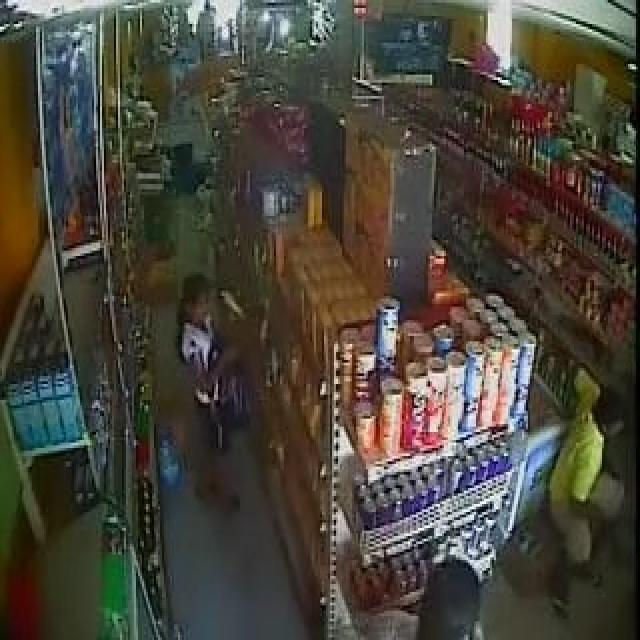Normal: (540, 359, 637, 632), (173, 265, 272, 517), (347, 554, 512, 640)
